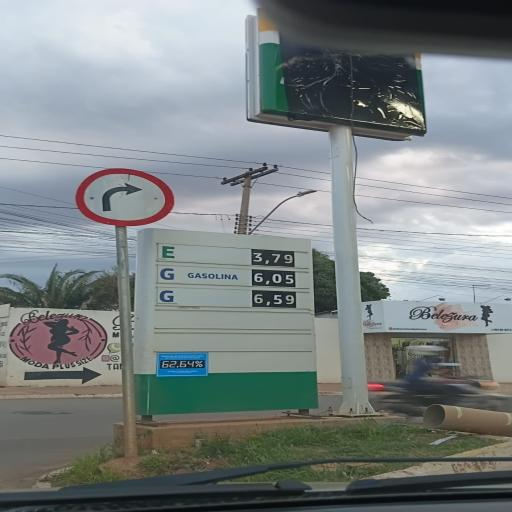ETANOL: (158, 243, 196, 261)
GASOLINA AD: (156, 289, 239, 305)
GASOLINA C: (158, 265, 243, 283)
placa: (135, 232, 318, 334)
preco: (251, 250, 294, 266), (252, 292, 298, 306), (252, 271, 297, 285)
